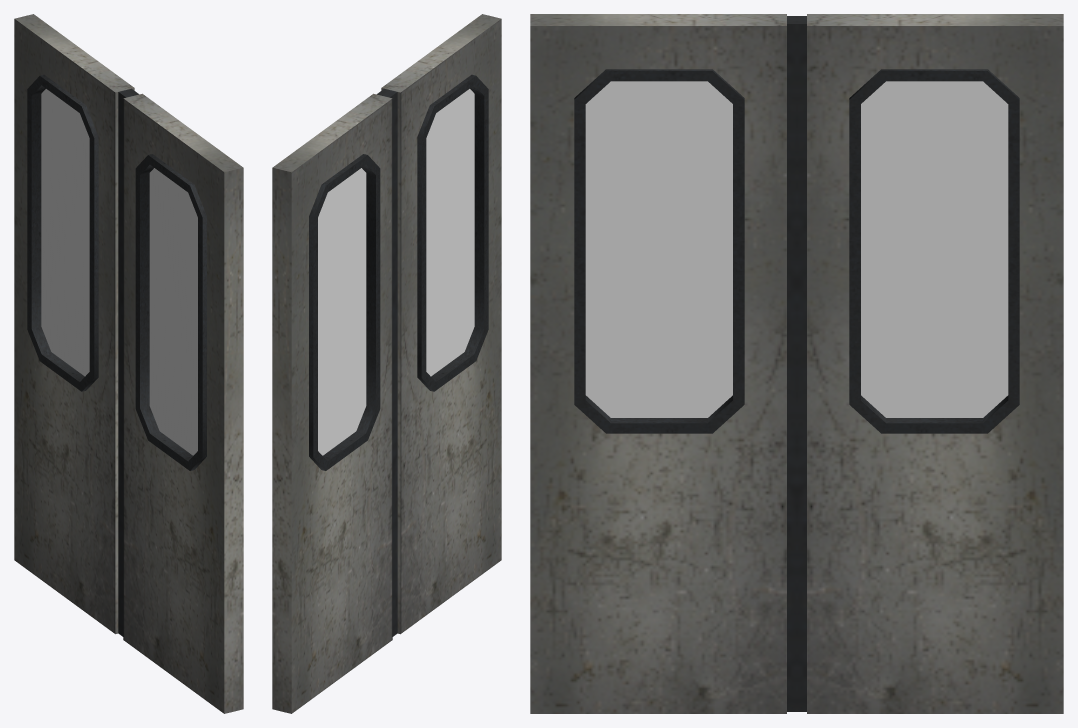
File: mdl_door_metro.glb
The picture shows the model from 3 angles, left to right: view 1: azimuth 30°, elevation 25°; view 2: azimuth 150°, elevation 25°; view 3: azimuth 270°, elevation 25°; orthographic projection. The views are drawn at different scales.
Visible parts, largest first — view 1: Door.001, Door; view 2: Door, Door.001; view 3: Door, Door.001.
Part boxes in pixels (left/top/right/bottom): Door.001: left=122, top=91, right=243, bottom=713; Door: left=14, top=14, right=135, bottom=635; Door: left=272, top=91, right=393, bottom=713; Door.001: left=380, top=14, right=501, bottom=635; Door: left=797, top=14, right=1063, bottom=713; Door.001: left=530, top=14, right=796, bottom=713.
Size of the model in its own units: 0.1272 by 2.48 by 1.74.
Materials: 3 (2 with a texture image).
